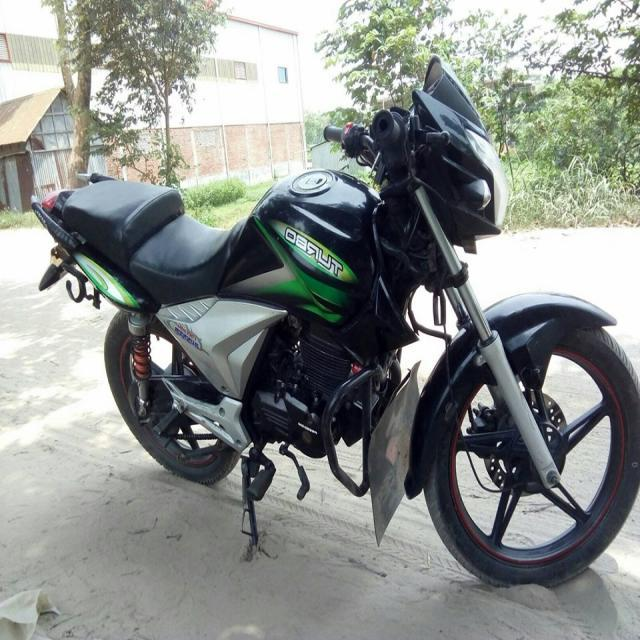Motorbike: (2, 55, 640, 599)
